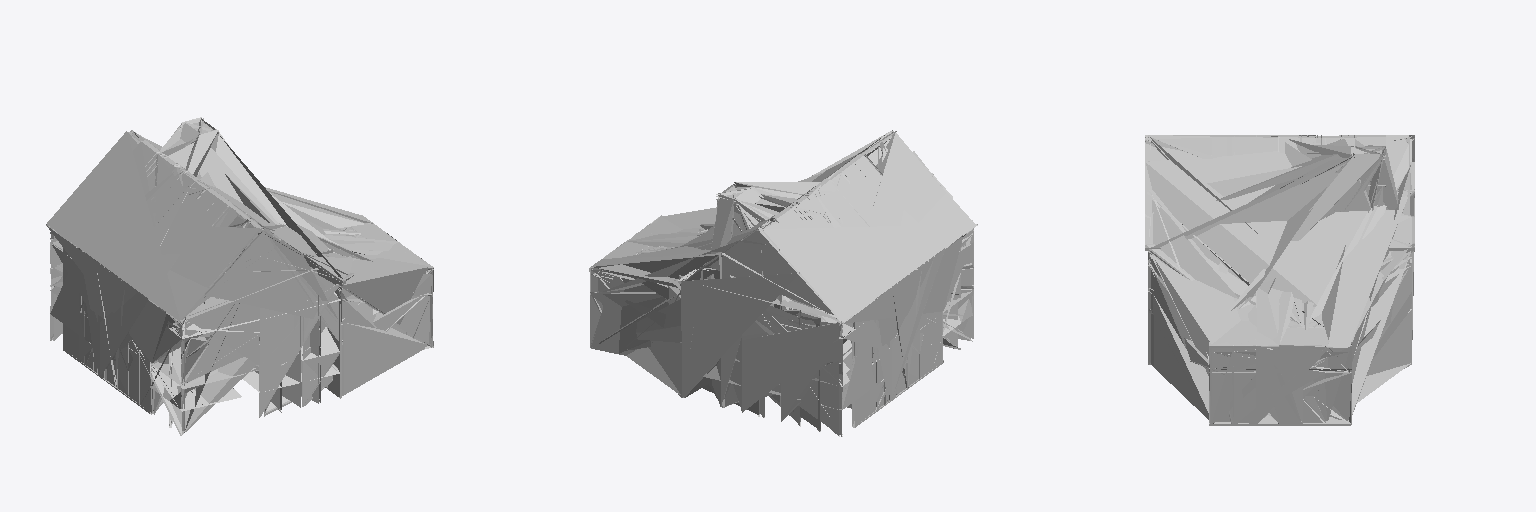
The model's file is GEO_GreenhouseStructure.obj.
3 views of the same model, side by side, from view 1: azimuth 30°, elevation 25°; view 2: azimuth 150°, elevation 25°; view 3: azimuth 270°, elevation 25° (orthographic).
Visible parts, largest first — view 1: GEO_Greenhouse; view 2: GEO_Greenhouse; view 3: GEO_Greenhouse.
Part boxes in pixels (x1,y1,x2,y2): GEO_Greenhouse: (46, 117, 433, 435); GEO_Greenhouse: (589, 130, 977, 436); GEO_Greenhouse: (1145, 135, 1414, 425).
Size of the model in its own units: 805 by 542 by 658.